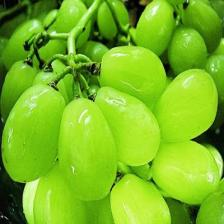green: (36, 87, 211, 224)
